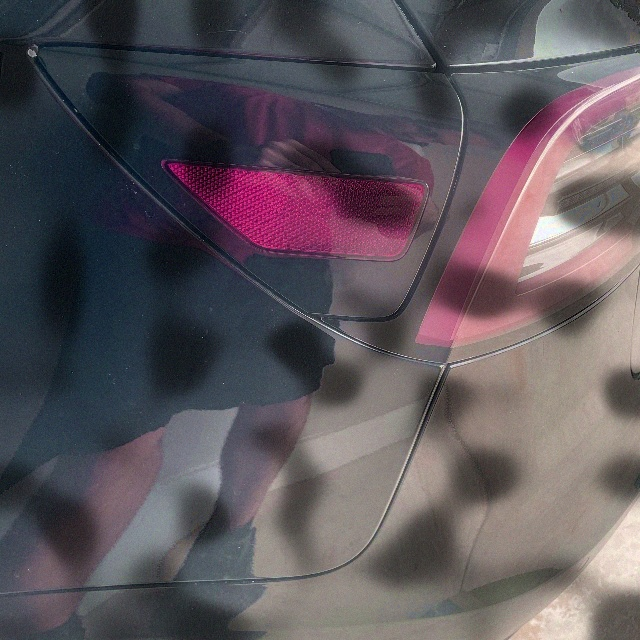reflector: (158, 157, 430, 263)
